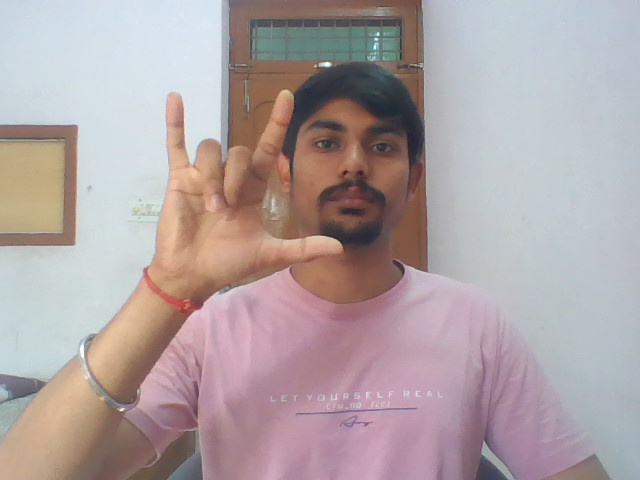I Love You: (139, 85, 349, 286)
